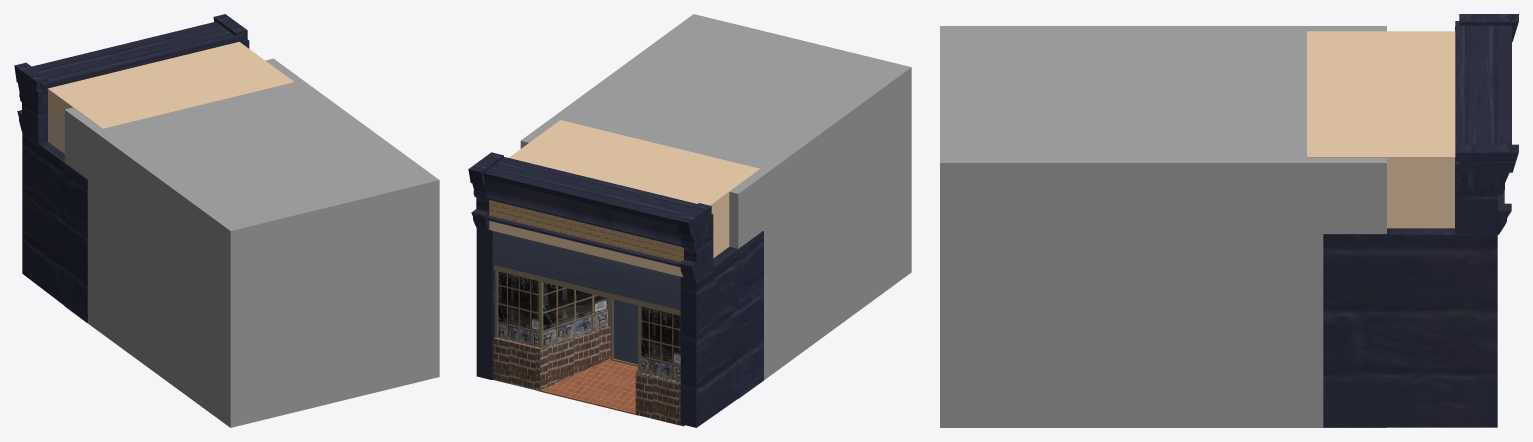
File: Gallery.fbx
3 renders of one model, left to right at view 1: azimuth 30°, elevation 25°; view 2: azimuth 150°, elevation 25°; view 3: azimuth 270°, elevation 25°, orthographic. The views are drawn at different scales.
Visible parts, largest first — view 1: pCube8, pCube15, pCube17, pCube23, pCube22, pCube24 (×2); view 2: pCube8, pCube6, pCube15, pCube17, pCube23, pCube14, pCube16, pCube24 (×2), pCube2, pCube9, pCube18, pCube22 (+1 smaller); view 3: pCube8, pCube16, pCube15, pCube23, pCube24 (×2), pCube22.
Part boxes in pixels (<box>): pCube8: <box>64,58,439,427</box>; pCube15: <box>47,41,294,153</box>; pCube17: <box>22,132,87,322</box>; pCube23: <box>32,21,244,90</box>; pCube22: <box>22,81,47,143</box>; pCube24 (×2): <box>14,14,247,107</box>; pCube8: <box>520,14,911,398</box>; pCube6: <box>493,271,684,426</box>; pCube15: <box>489,120,759,276</box>; pCube17: <box>680,231,763,427</box>; pCube23: <box>477,157,696,244</box>; pCube14: <box>493,231,680,310</box>; pCube16: <box>476,227,495,379</box>; pCube24 (×2): <box>468,152,711,245</box>; pCube2: <box>610,299,637,366</box>; pCube9: <box>493,265,680,315</box>; pCube18: <box>486,216,680,267</box>; pCube22: <box>684,214,713,280</box>; pCube8: <box>940,26,1386,427</box>; pCube16: <box>1323,228,1497,427</box>; pCube15: <box>1307,31,1455,228</box>; pCube23: <box>1455,21,1511,161</box>; pCube24 (×2): <box>1459,14,1518,187</box>; pCube22: <box>1455,158,1498,234</box>.
Size of the model in its own units: 7.33 by 6.82 by 12.94.
